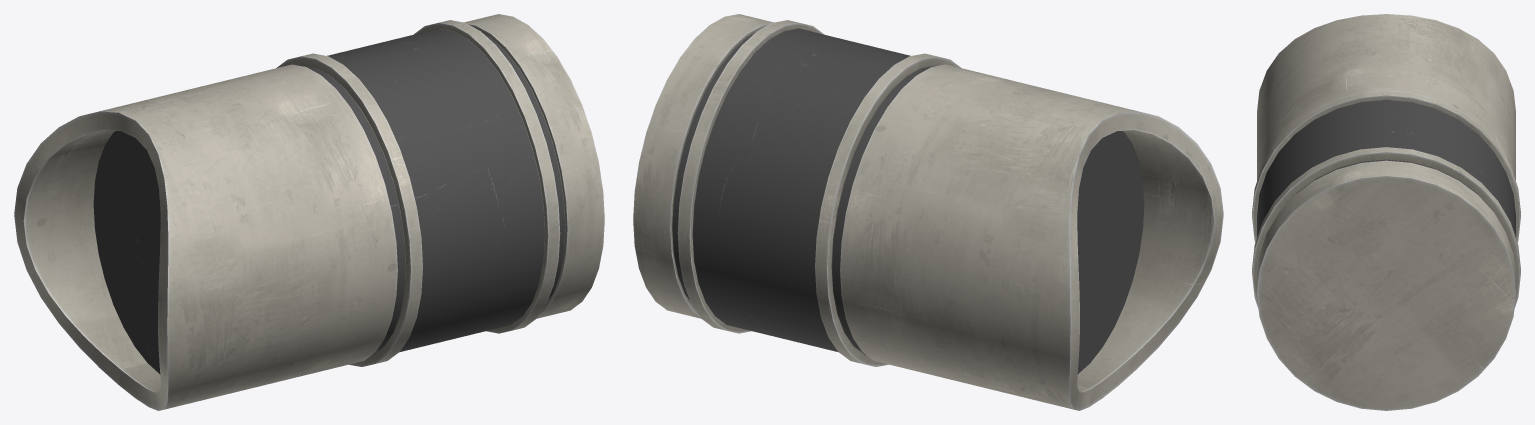
Rendered from pommel_5_c_d.glb.
3 views of the same model, side by side, from view 1: azimuth 30°, elevation 25°; view 2: azimuth 150°, elevation 25°; view 3: azimuth 270°, elevation 25° (orthographic). The views are drawn at different scales.
Visible parts, largest first — view 1: pommel_5_c_d_lod0; view 2: pommel_5_c_d_lod0; view 3: pommel_5_c_d_lod0.
Boxes of the visible parts, <box> form: pommel_5_c_d_lod0: <box>14,14,604,410</box>; pommel_5_c_d_lod0: <box>633,14,1223,410</box>; pommel_5_c_d_lod0: <box>1252,14,1520,410</box>.
Size of what is drawn, in the model's own units: 0.0488 by 0.0307 by 0.0307.
1 material, 1 textured.
